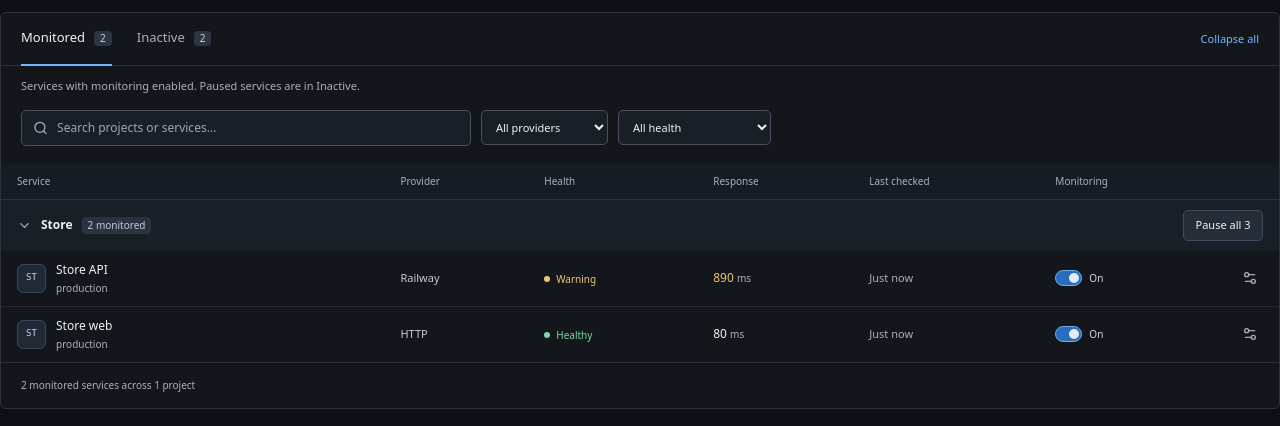
Test case: React project monitoring workspace › collapses project rows without changing monitored totals
Click the button "Collapse all": [1230, 39] box [1201, 28, 1259, 50]
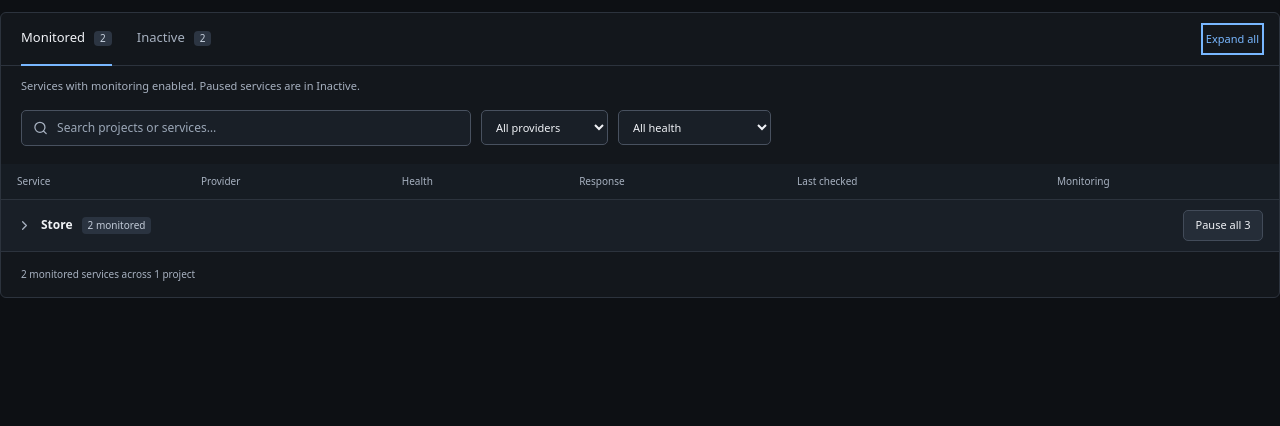
Expected: the tab "Monitored 2" is shown, [21, 13, 112, 66]
Expected: the text "2 monitored services across 1 project" is shown, [21, 266, 195, 282]
Click the button "Expand all": [1232, 39] box [1206, 28, 1259, 50]
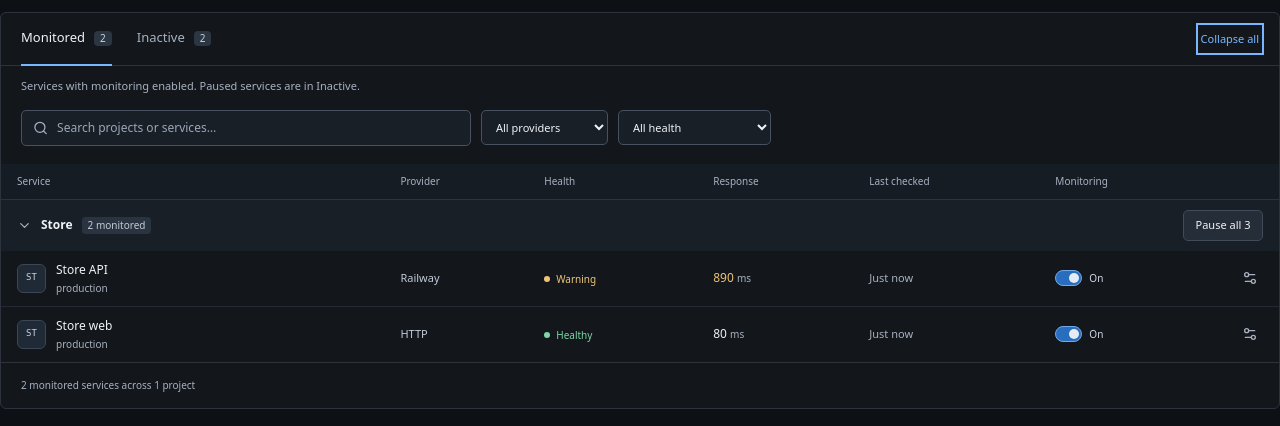
Now the button with aria-label "Configure Store API" is shown, box [17, 260, 108, 296]
